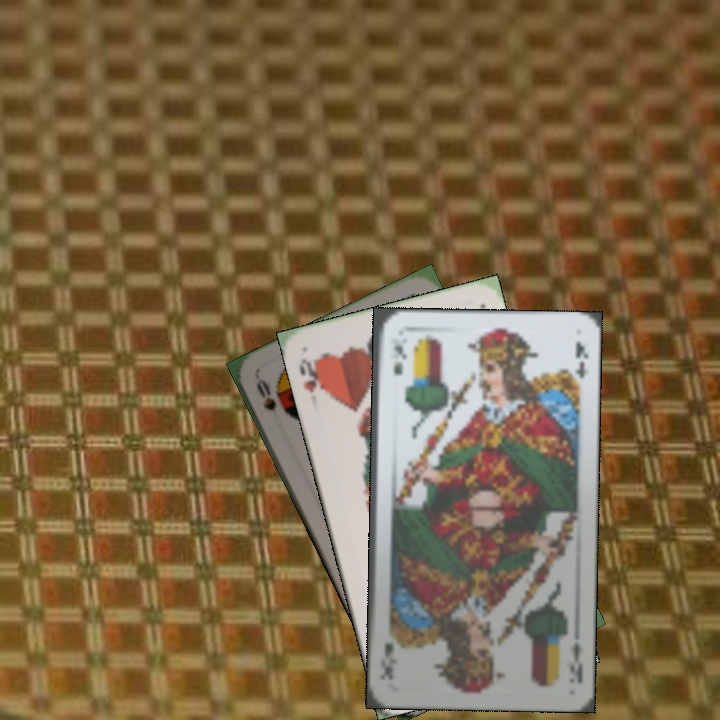EK: (563, 638, 586, 686), (385, 340, 407, 378)
HO: (295, 354, 328, 398)
SO: (252, 375, 279, 414)
